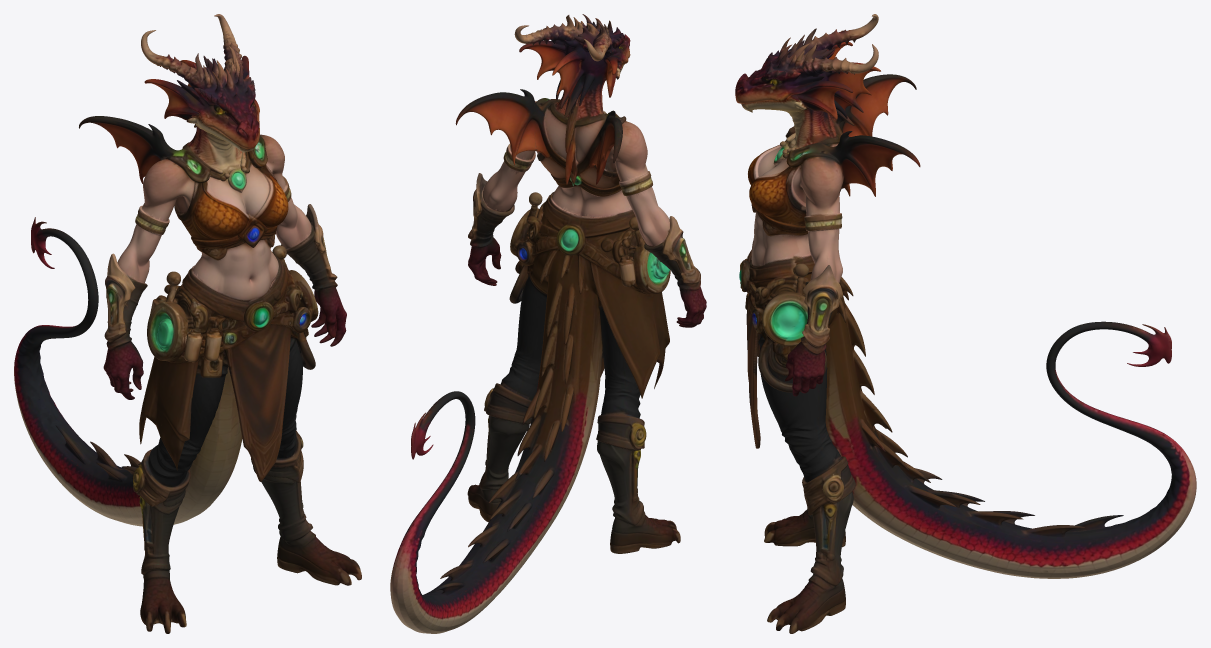
Rendered from dragonborn_artificer_full_female_01.glb.
3 renders of one model, left to right at view 1: azimuth 30°, elevation 25°; view 2: azimuth 150°, elevation 25°; view 3: azimuth 270°, elevation 25°, orthographic. The views are drawn at different scales.
Visible parts, largest first — view 1: material; view 2: material; view 3: material.
Boxes of the visible parts, x1,y1,x2,y2 form: material: (14,14,361,633); material: (390,14,706,633); material: (735,14,1196,633).
Size of the model in its own units: 0.4514 by 0.9522 by 0.7346.
Materials: 1 (1 with a texture image).
